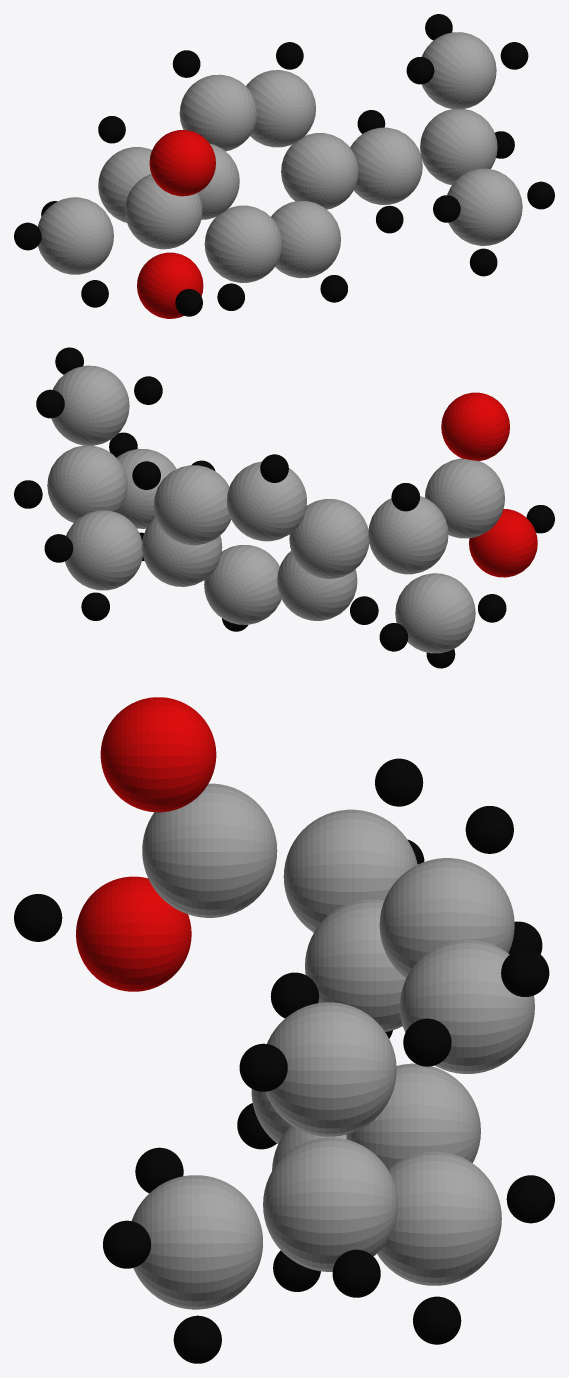
Rendered from Ibuprofen.glb.
3 views of the same model, one above another, from view 1: azimuth 30°, elevation 25°; view 2: azimuth 150°, elevation 25°; view 3: azimuth 270°, elevation 25° (orthographic). The views are drawn at different scales.
Parts seen in each view (by area): view 1: world; view 2: world; view 3: world.
Part boxes in pixels (x1,y1,x2,y2): world: (14, 14, 554, 318); world: (14, 347, 554, 668); world: (14, 697, 554, 1363).
Bounding box in the file's own units: 10.09 × 4.86 × 5.61.
